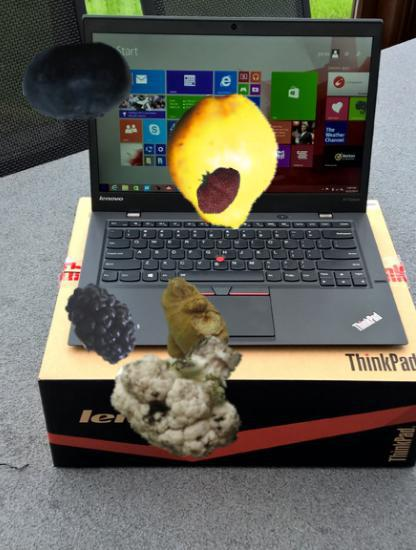Blueberry: (22, 27, 134, 139)
Cauliflower: (118, 323, 258, 463)
Ginger: (140, 276, 235, 371)
Mulberry: (64, 272, 161, 369)
Quince: (154, 93, 292, 231)
Strawberry: (190, 164, 243, 217)
